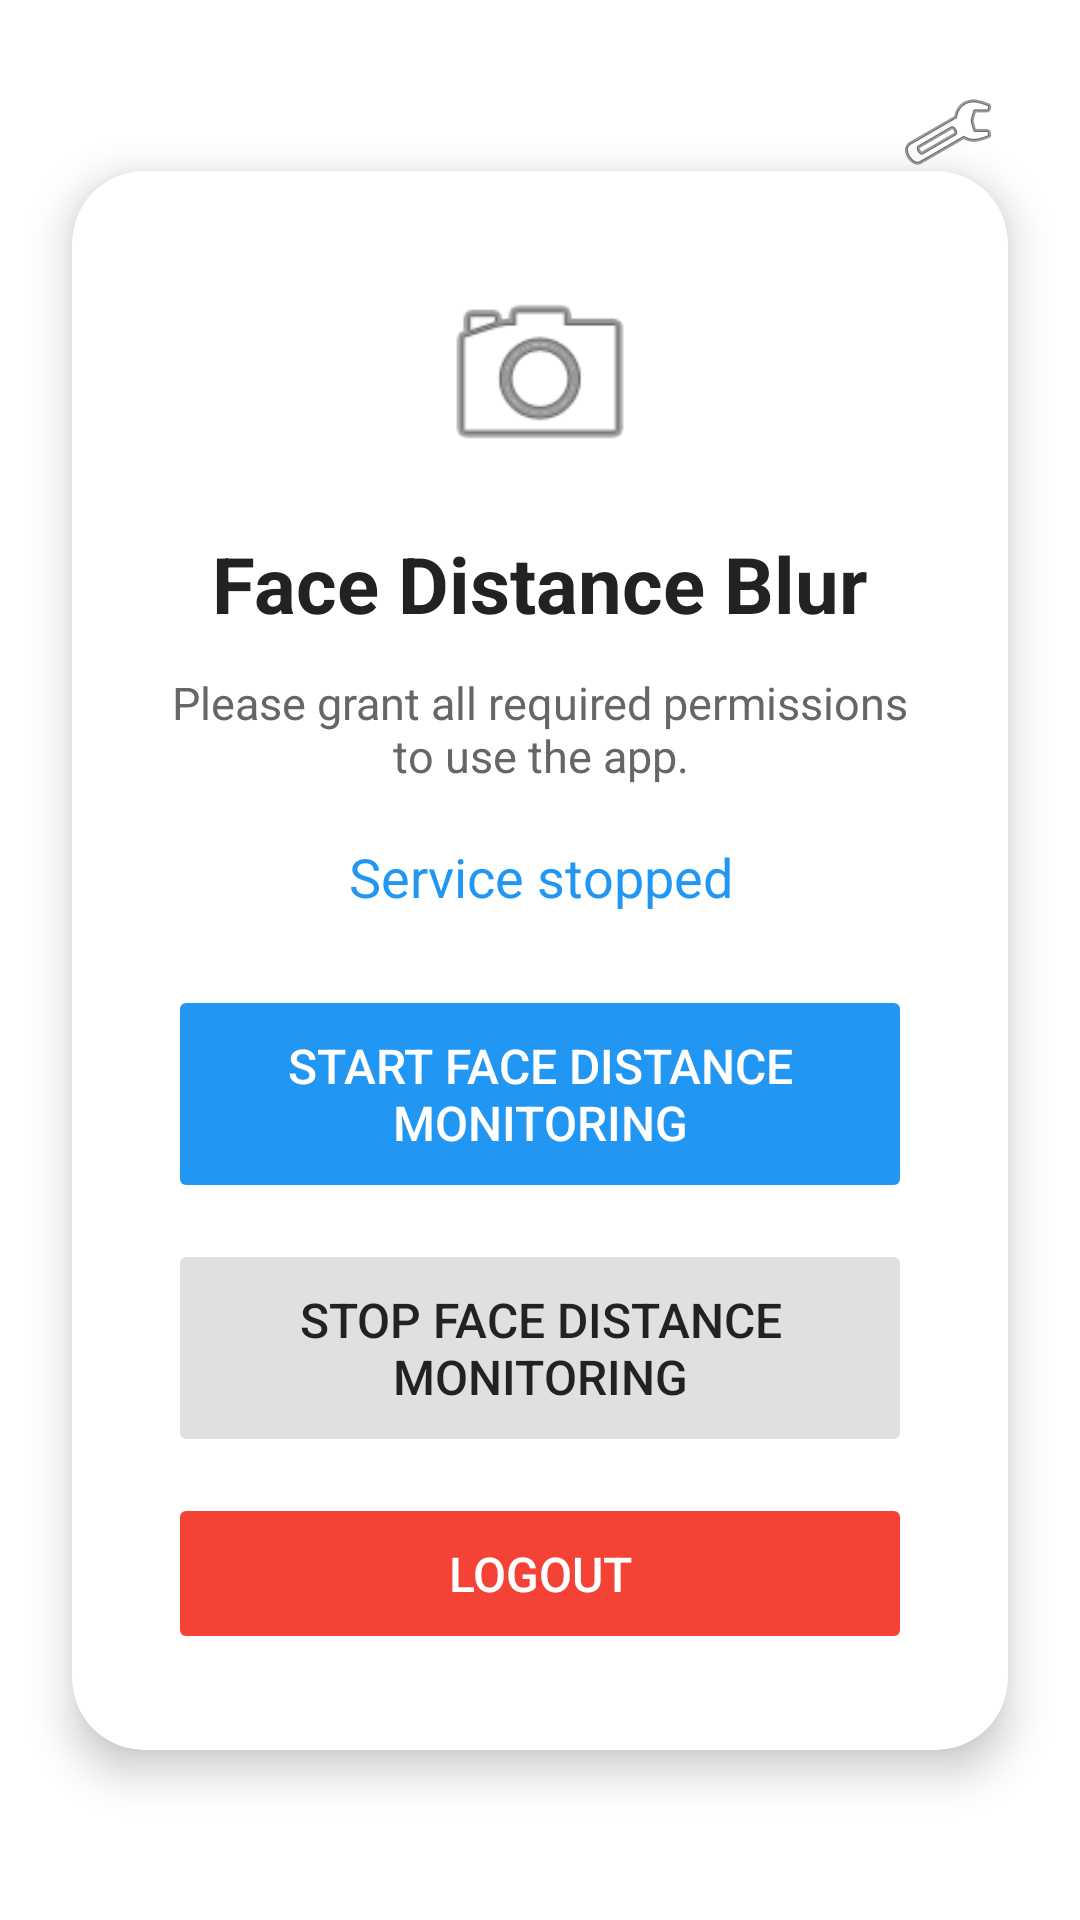

Icon bounding boxes for this 1080*1920 phone screenshot, format (x1, y1, x2, y2):
camera: (456, 305, 624, 438)
Settings: (905, 99, 991, 165)
